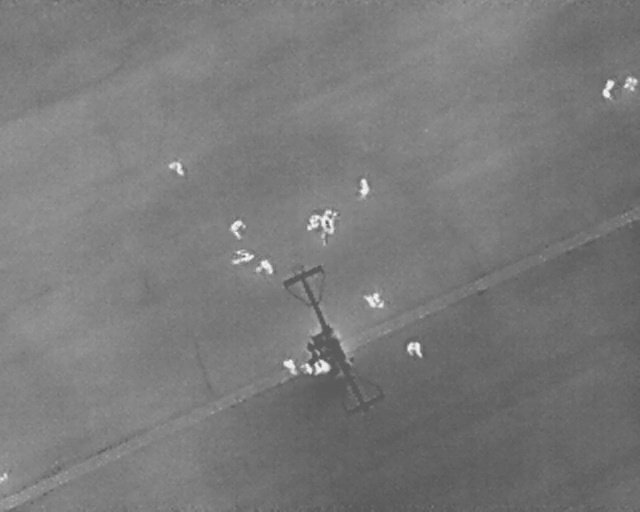Person: (228, 246, 256, 267), (320, 207, 337, 234), (362, 291, 386, 309), (167, 157, 188, 177), (255, 257, 274, 276), (229, 220, 246, 239), (601, 78, 615, 101), (313, 360, 331, 377), (622, 74, 639, 92), (406, 342, 423, 359), (282, 358, 298, 376), (307, 214, 320, 233), (359, 178, 370, 196)
